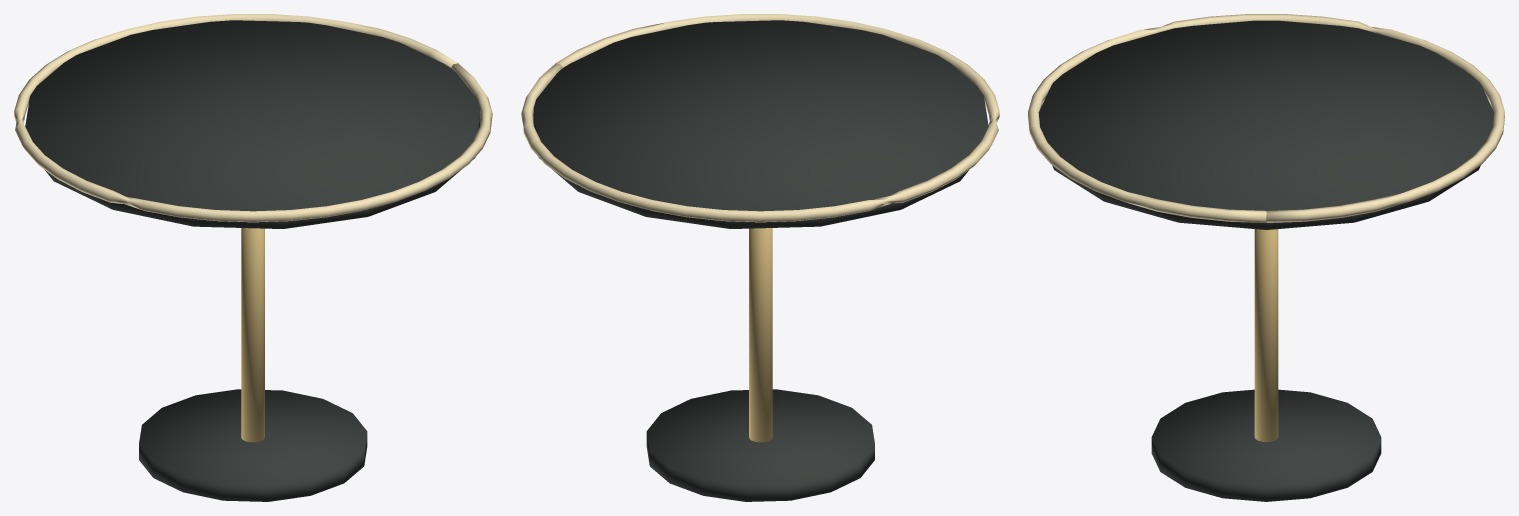
Rendered from cocktail-table.glb.
The picture shows the model from 3 angles, left to right: view 1: azimuth 30°, elevation 25°; view 2: azimuth 150°, elevation 25°; view 3: azimuth 270°, elevation 25°; orthographic projection.
Visible parts, largest first — view 1: top-0, base-3, rim-1, stem-2; view 2: top-0, base-3, rim-1, stem-2; view 3: top-0, base-3, rim-1, stem-2.
Boxes of the visible parts, x1,y1,x2,y2 form: top-0: (25, 20, 480, 228); base-3: (139, 389, 367, 501); rim-1: (14, 14, 492, 222); stem-2: (241, 228, 264, 442); top-0: (533, 20, 988, 228); base-3: (646, 389, 874, 501); rim-1: (521, 14, 999, 222); stem-2: (749, 228, 772, 442); top-0: (1038, 20, 1494, 229); base-3: (1151, 389, 1381, 501); rim-1: (1028, 14, 1504, 222); stem-2: (1254, 229, 1278, 441).
Size of the model in its own units: 1.33 by 1.05 by 1.33.
